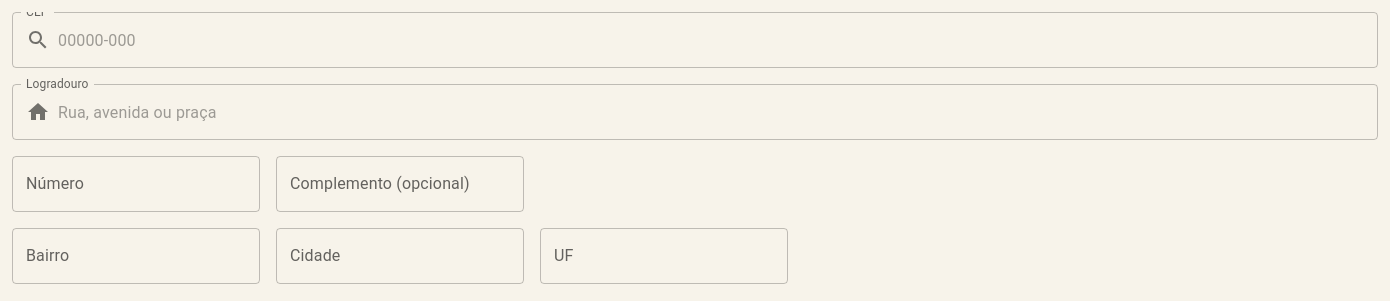
Test: consulta o ViaCEP e preenche o endereço ao informar oito dígitos
Type "88010000" into the field labelled "CEP" at (718, 40), box [58,12,1378,68]
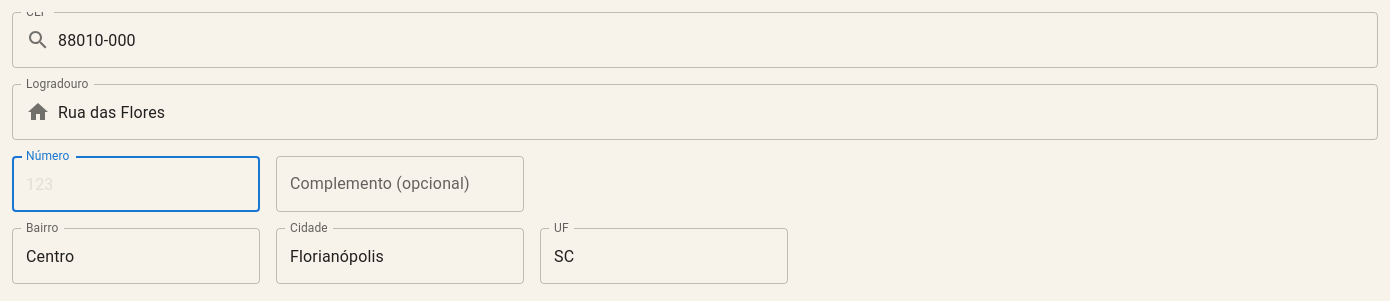
Expected: the field labelled "Logradouro" holds "Rua das Flores", [58,84,1378,140]
Expected: the field labelled "Bairro" holds "Centro", [12,228,260,284]
Expected: the field labelled "Cidade" holds "Florianópolis", [276,228,524,284]
